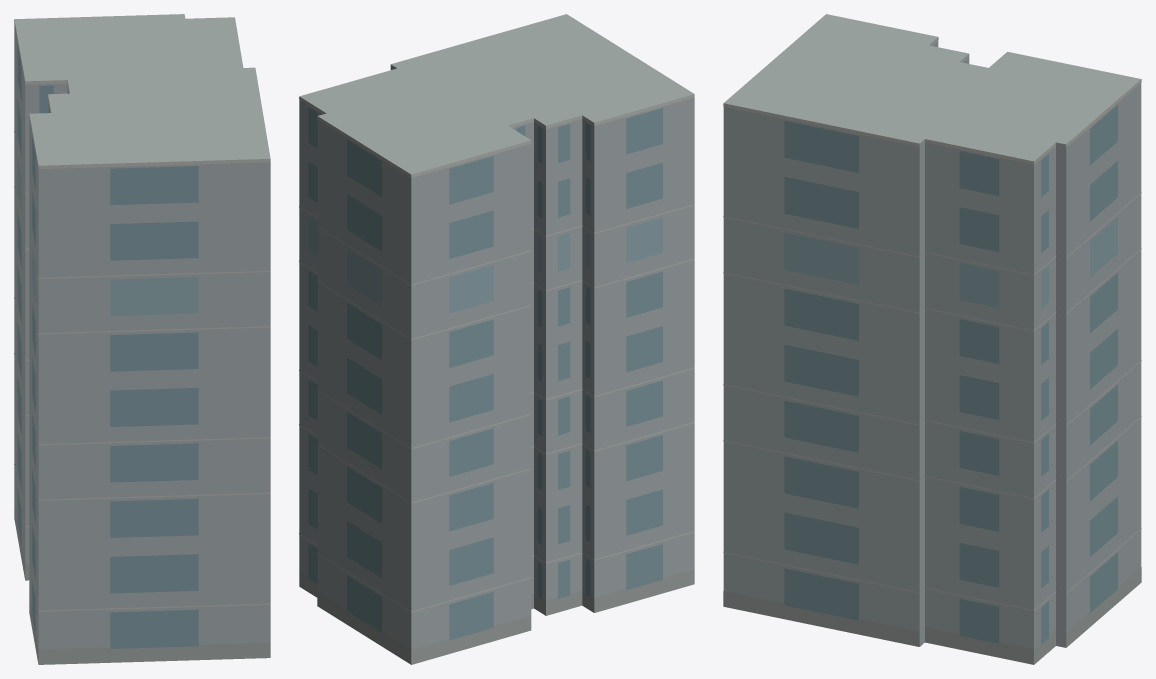
File: survey-upis-33010400.glb
3 renders of one model, left to right at view 1: azimuth 30°, elevation 25°; view 2: azimuth 150°, elevation 25°; view 3: azimuth 270°, elevation 25°, orthographic. The views are drawn at different scales.
Parts seen in each view (by area): view 1: survey-upis-33010400.tmp; view 2: survey-upis-33010400.tmp; view 3: survey-upis-33010400.tmp.
Part boxes in pixels (<box>): survey-upis-33010400.tmp: <box>14,14,270,664</box>; survey-upis-33010400.tmp: <box>299,14,694,664</box>; survey-upis-33010400.tmp: <box>723,14,1141,664</box>.
Bounding box in the file's own units: 22.06 × 35.1 × 26.43.
